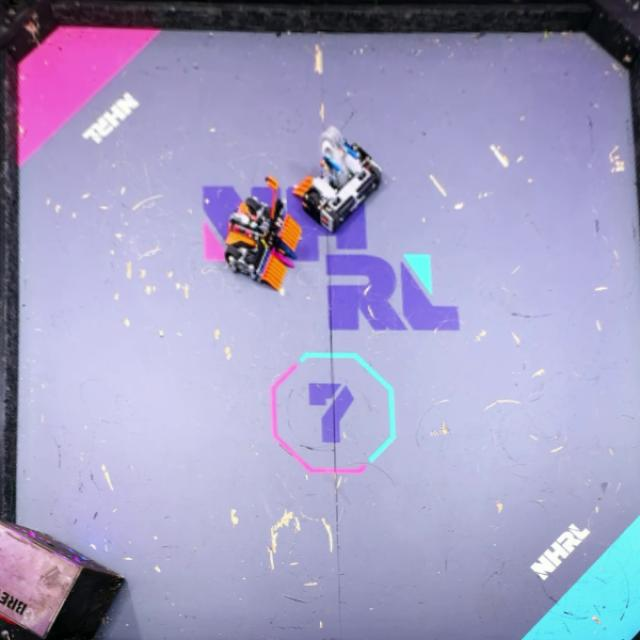housebot: (0, 519, 129, 640)
robot: (292, 126, 383, 236), (225, 175, 302, 291)
